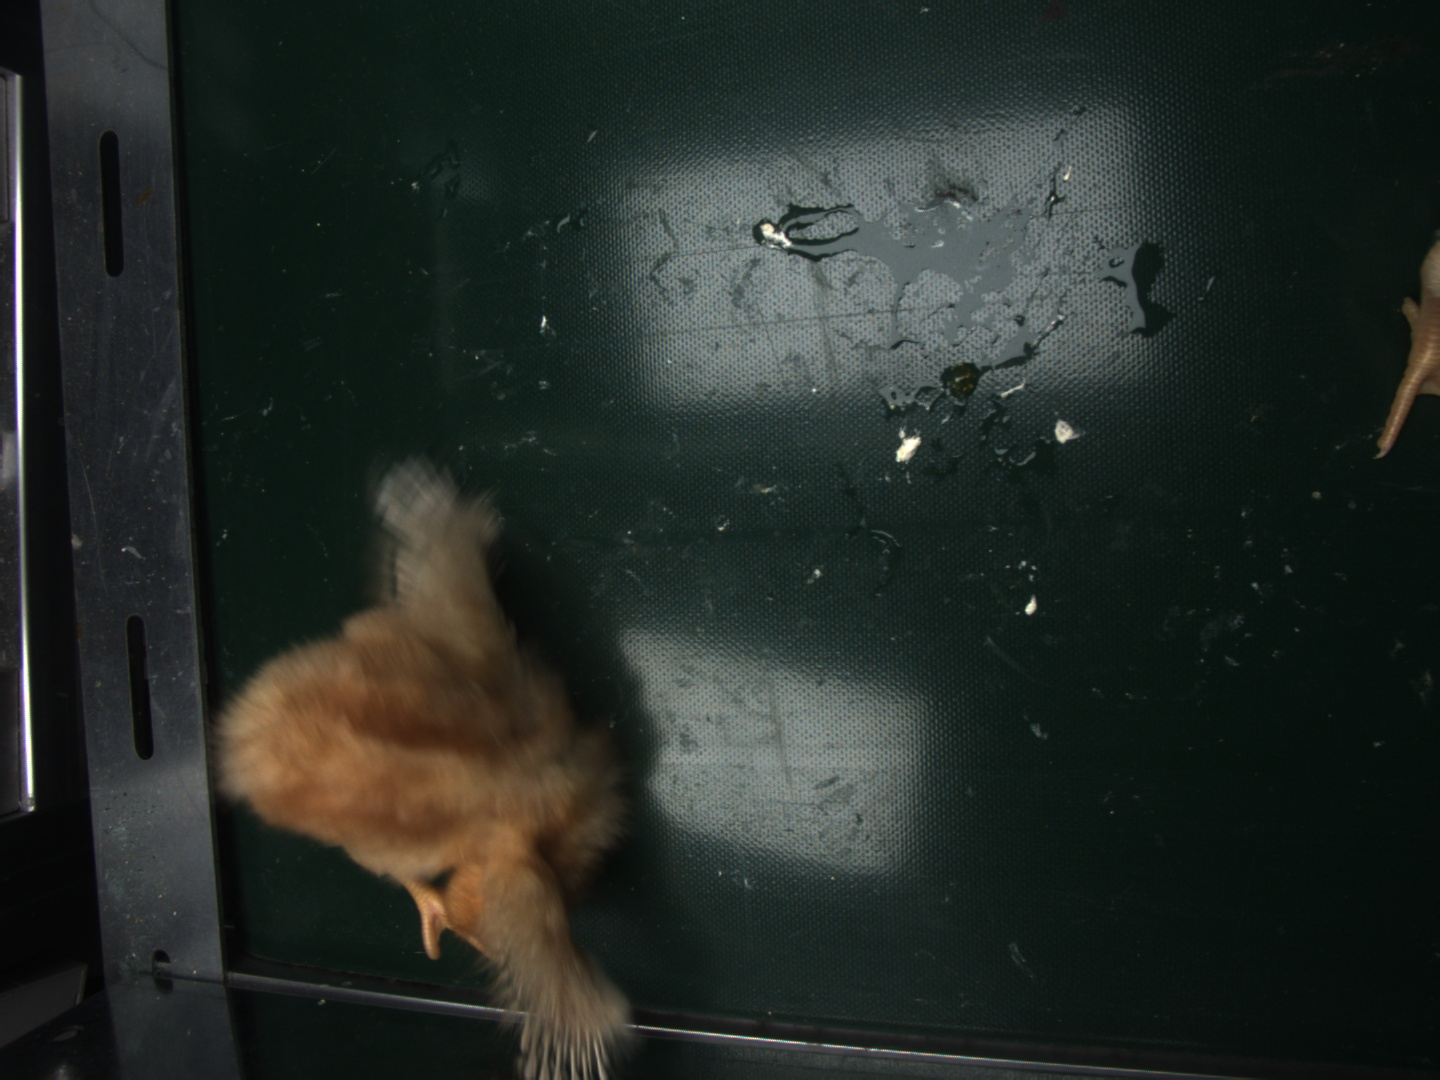female: (525, 1006, 608, 1080)
